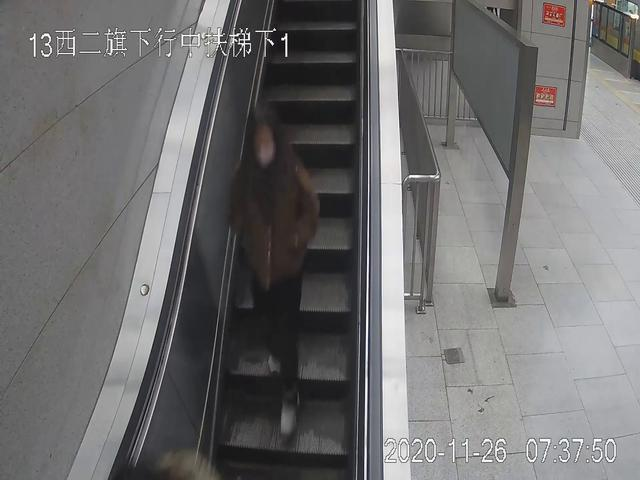person: (229, 109, 323, 445)
